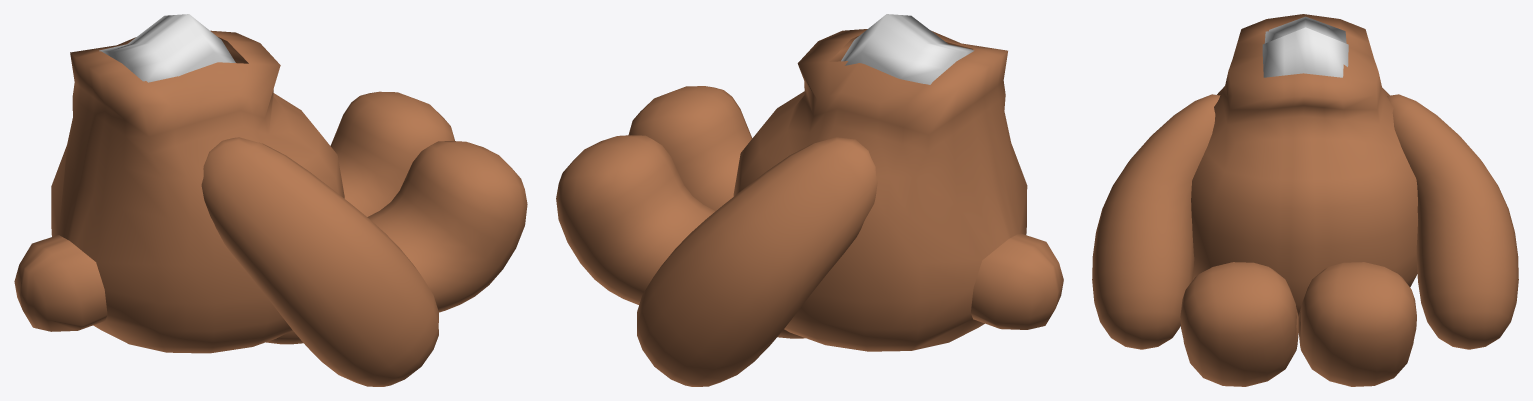
The model's file is teddybearbody.fbx.
3 renders of one model, left to right at view 1: azimuth 30°, elevation 25°; view 2: azimuth 150°, elevation 25°; view 3: azimuth 270°, elevation 25°, orthographic. The views are drawn at different scales.
Parts seen in each view (by area): view 1: Body, arm, arm.003, arm.002, Body.001, Body.002; view 2: Body, arm.001, arm.002, arm.003, Body.001, Body.002; view 3: Body, arm.001, arm, arm.002, arm.003, Body.002.
Part boxes in pixels (left/top/right/bottom): Body: left=51, top=30, right=344, bottom=353; arm: left=201, top=137, right=438, bottom=386; arm.003: left=266, top=141, right=527, bottom=344; arm.002: left=330, top=91, right=454, bottom=216; Body.001: left=14, top=235, right=107, bottom=331; Body.002: left=99, top=14, right=235, bottom=82; Body: left=733, top=29, right=1027, bottom=351; arm.001: left=637, top=137, right=877, bottom=386; arm.002: left=556, top=135, right=805, bottom=338; arm.003: left=628, top=86, right=752, bottom=210; Body.001: left=971, top=233, right=1063, bottom=329; Body.002: left=841, top=14, right=974, bottom=84; Body: left=1191, top=14, right=1417, bottom=316; arm.001: left=1387, top=94, right=1518, bottom=349; arm: left=1092, top=94, right=1220, bottom=349; arm.002: left=1298, top=262, right=1416, bottom=386; arm.003: left=1180, top=262, right=1298, bottom=386; Body.002: left=1262, top=16, right=1348, bottom=77.
Size of the model in its own units: 470 by 316 by 438.
